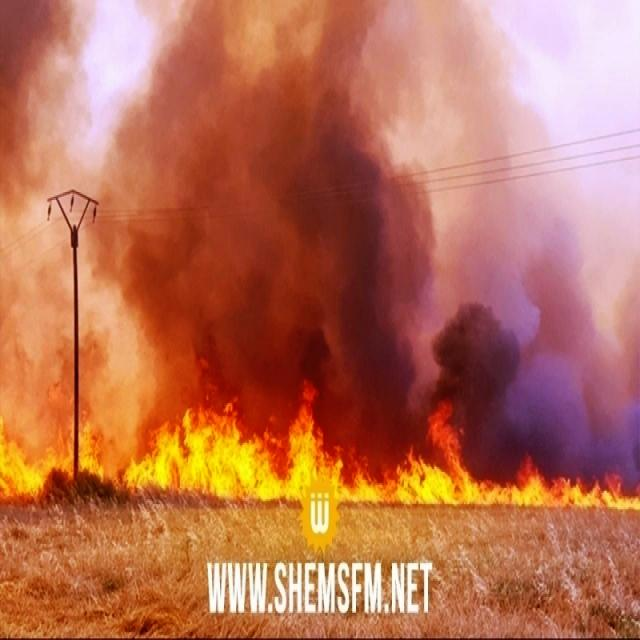api: (152, 412, 337, 506), (337, 464, 640, 516), (2, 436, 39, 503), (77, 424, 104, 482), (433, 408, 461, 459), (46, 428, 71, 480)
asap: (106, 2, 640, 388), (1, 13, 101, 190), (3, 202, 73, 428), (342, 364, 423, 459)
